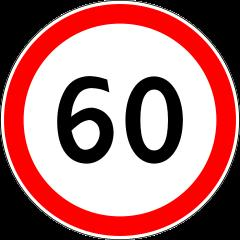Speed Limit -60-: (52, 58, 186, 180)
